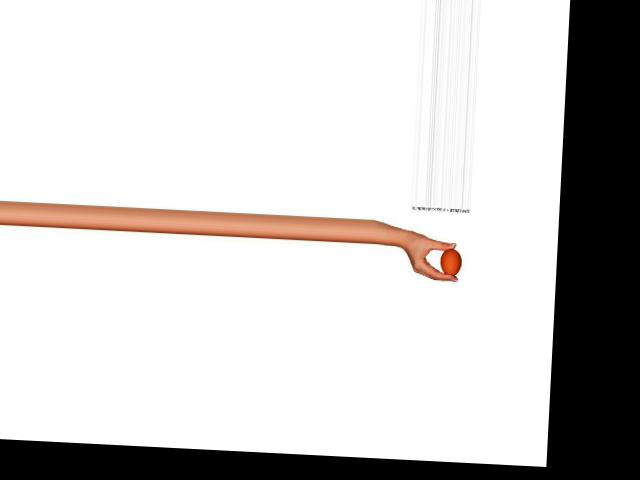egg: (440, 247, 462, 277)
